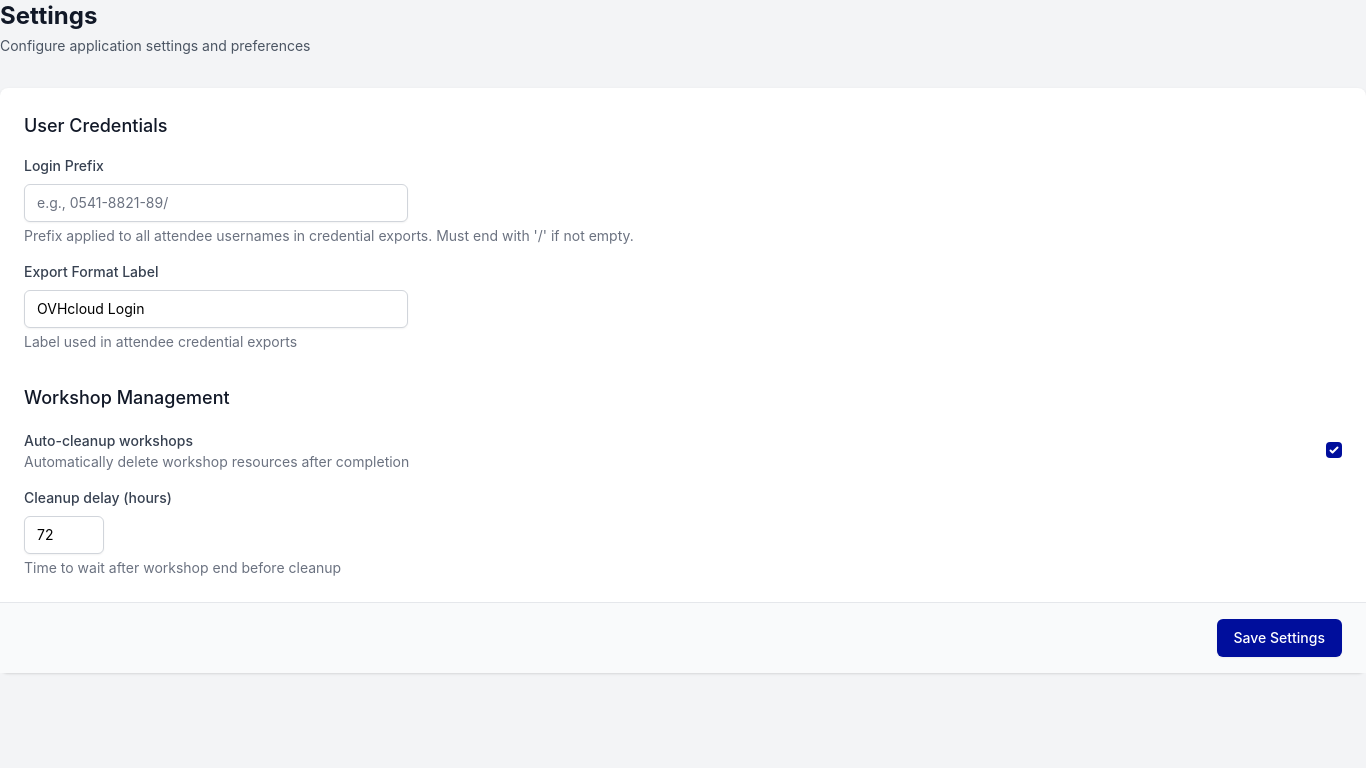
Test: Settings - NotificationDialog Integration › should show error notification dialog instead of native alert on save failure
Click the button "Save Settings".
click(1279, 638)  # box x1=1217 y1=619 x2=1342 y2=657
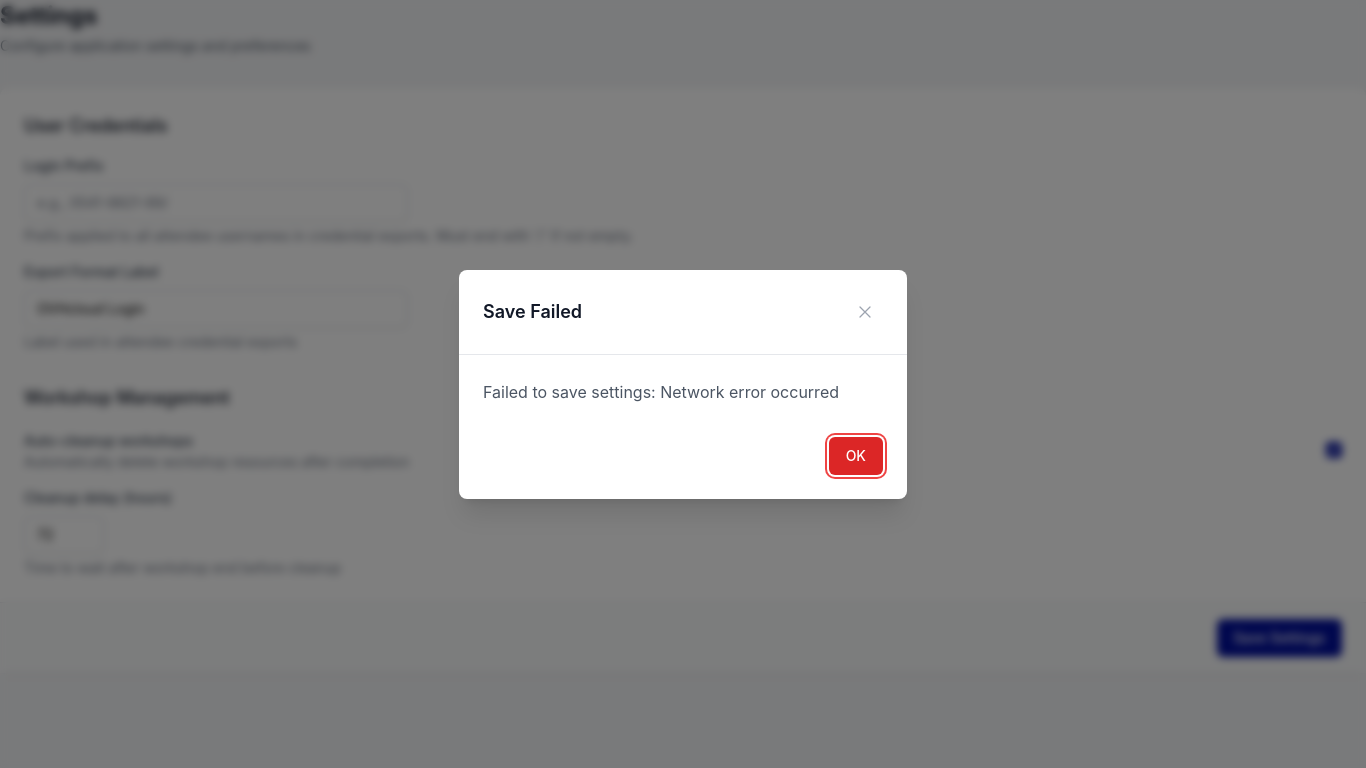
Check: the heading "Save Failed" is shown, box x1=483 y1=298 x2=582 y2=326
Check: the element with test id "modal-overlay" is shown
